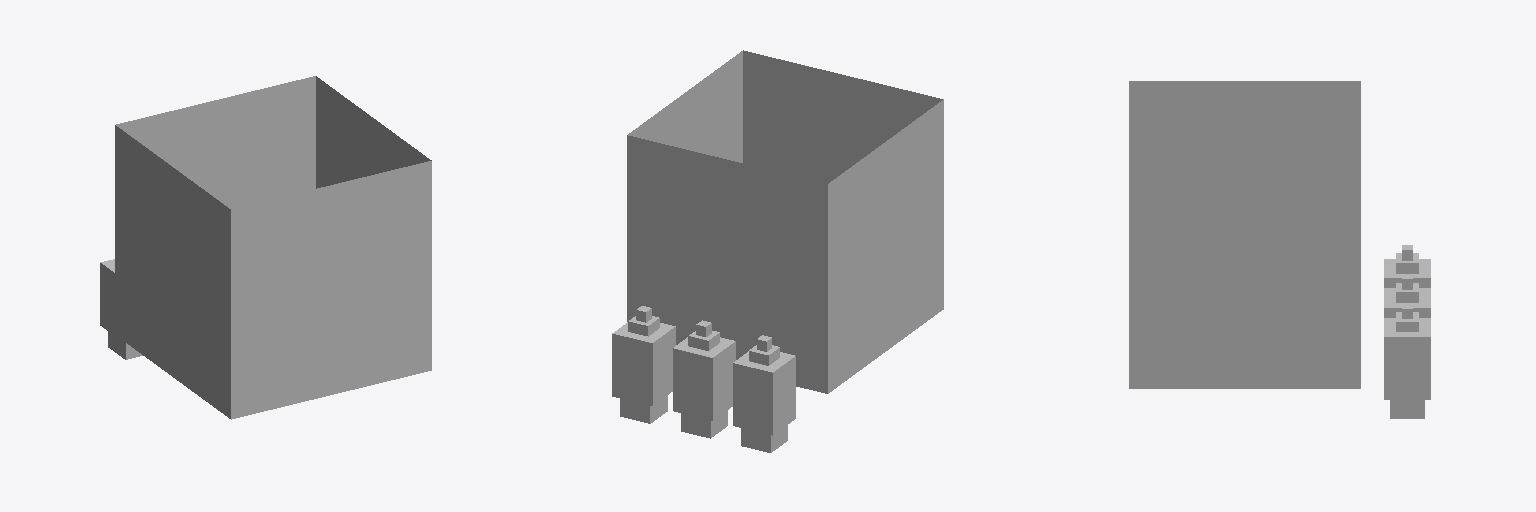
Rendered from charging_station_glass.obj.
The picture shows the model from 3 angles: view 1: azimuth 30°, elevation 25°; view 2: azimuth 150°, elevation 25°; view 3: azimuth 270°, elevation 25°; orthographic projection.
Visible parts, largest first — view 1: glass, tubes; view 2: glass, tubes; view 3: glass, tubes.
Boxes of the visible parts, box(x1,y1,x2,y2) form: glass: box(115, 76, 431, 419); tubes: box(100, 259, 142, 359); glass: box(627, 50, 943, 393); tubes: box(612, 306, 795, 452); glass: box(1129, 81, 1360, 388); tubes: box(1384, 245, 1430, 418).
Size of the model in its own units: 0.625 by 0.75 by 0.8125.